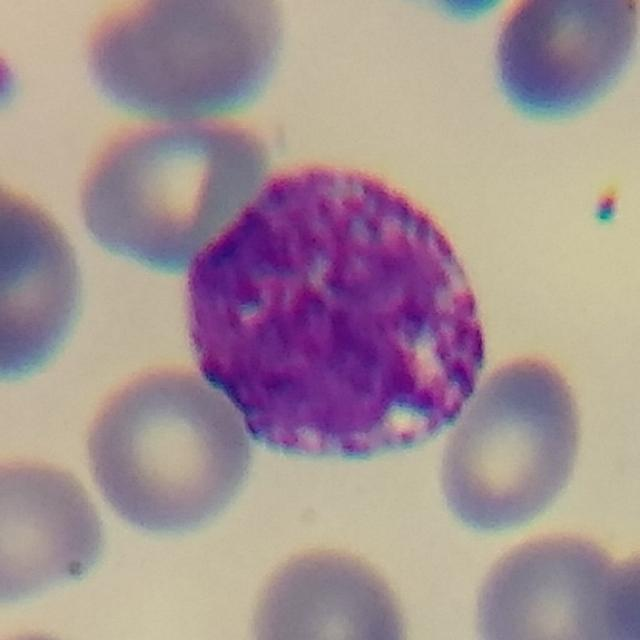Basophil: (164, 144, 511, 480)
Platelets: (392, 0, 532, 24), (0, 47, 26, 118)
RBC: (69, 111, 272, 274), (76, 362, 256, 538), (432, 348, 592, 536), (73, 0, 291, 122), (483, 0, 640, 126), (0, 176, 91, 391), (467, 524, 633, 640), (240, 538, 416, 640), (0, 449, 111, 610), (593, 542, 640, 640)
